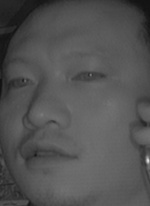eye: (73, 64, 104, 86), (4, 70, 35, 92)
mouth: (18, 134, 77, 173)
